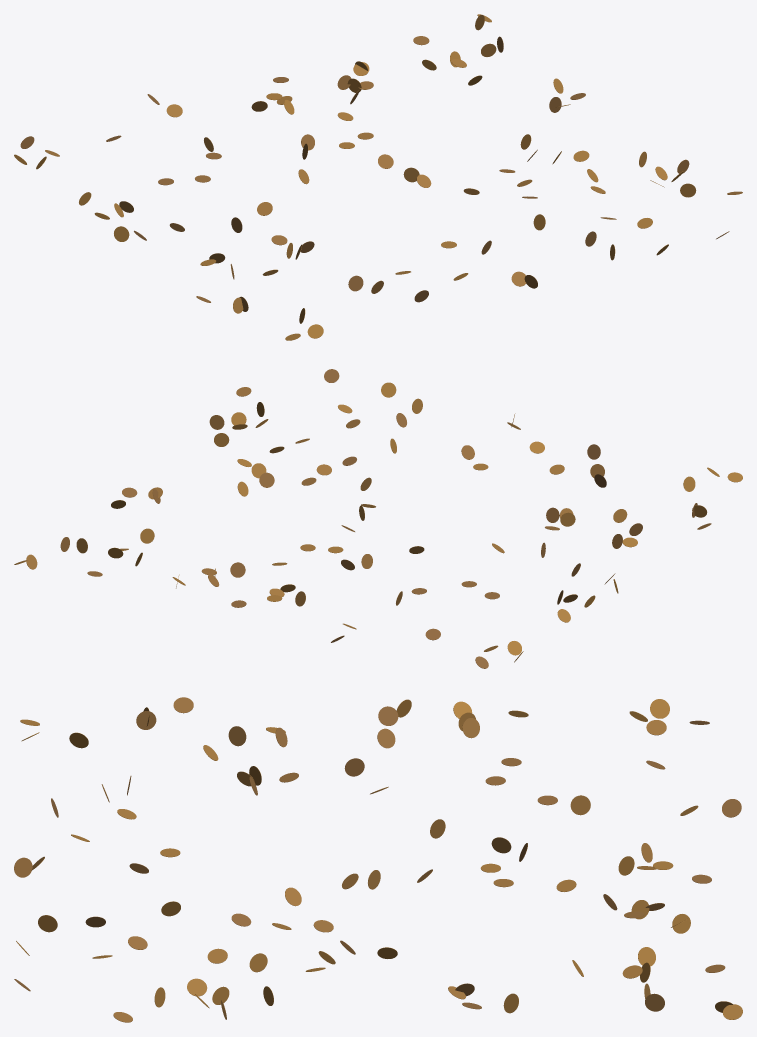
The model's file is choco_square3.glb.
The picture shows the model from 3 angles, top to bottom: view 1: azimuth 30°, elevation 25°; view 2: azimuth 150°, elevation 25°; view 3: azimuth 270°, elevation 25°; orthographic projection. The views are drawn at different scales.
Bounding box in the file's own units: 2.24 × 0.06 × 2.15.
